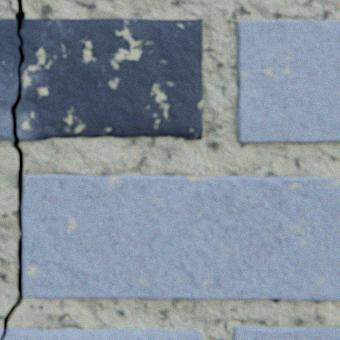brick: (22, 174, 339, 299), (235, 20, 339, 142), (232, 324, 339, 339)
broken_brick: (16, 18, 202, 140), (1, 326, 202, 339), (0, 19, 20, 139), (0, 327, 2, 335)
crack: (0, 0, 25, 339)
